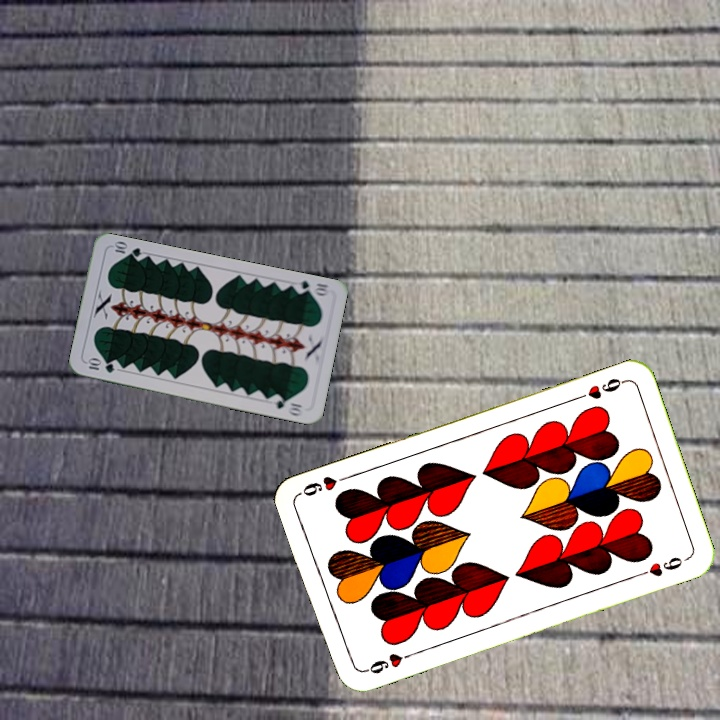G10: (290, 276, 332, 298), (83, 355, 117, 375)
H9: (571, 374, 629, 403), (359, 648, 416, 676)
